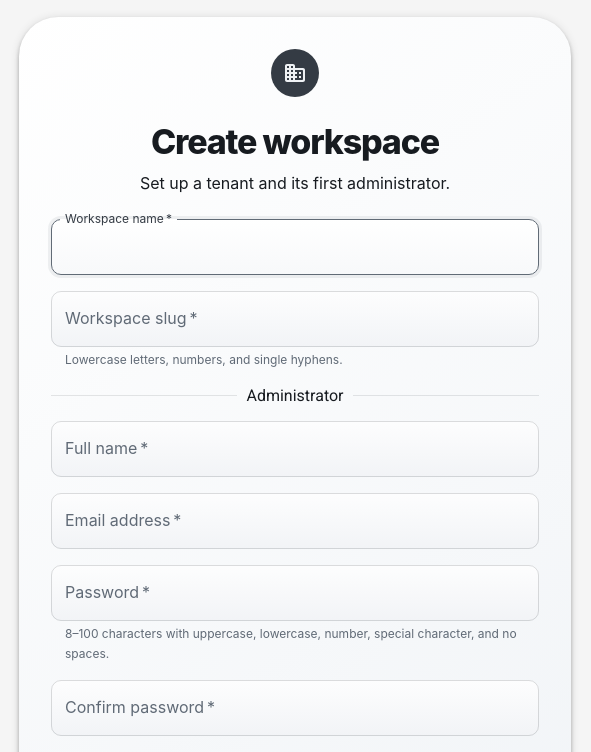
Test: TenantOnboardingPage › surfaces a duplicate workspace slug returned by the backend
In the field labelled "Workspace name *": (295, 247) [51,219,539,275], type "  Research Workspace  "
In the field labelled "Workspace slug *": (295, 319) [51,291,539,347], type "  Research-Workspace  "
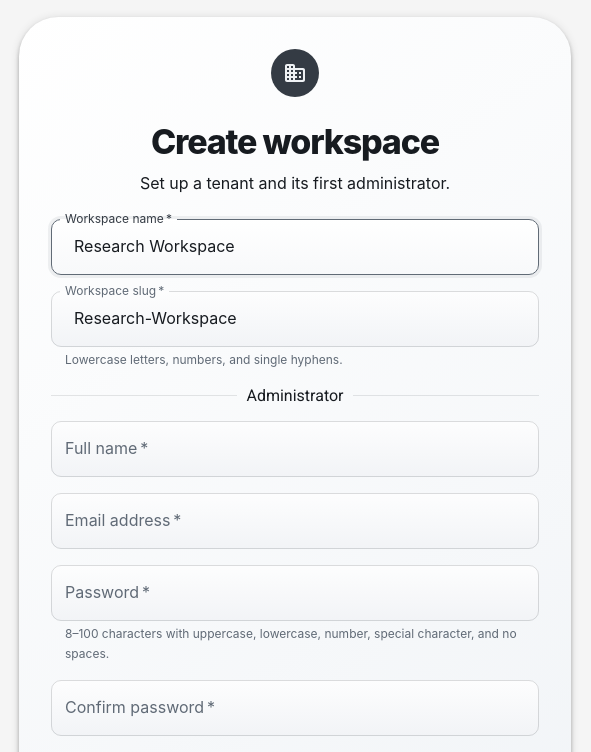
In the field labelled "Full name *": (295, 449) [51,421,539,477], type "  Grace Admin  "
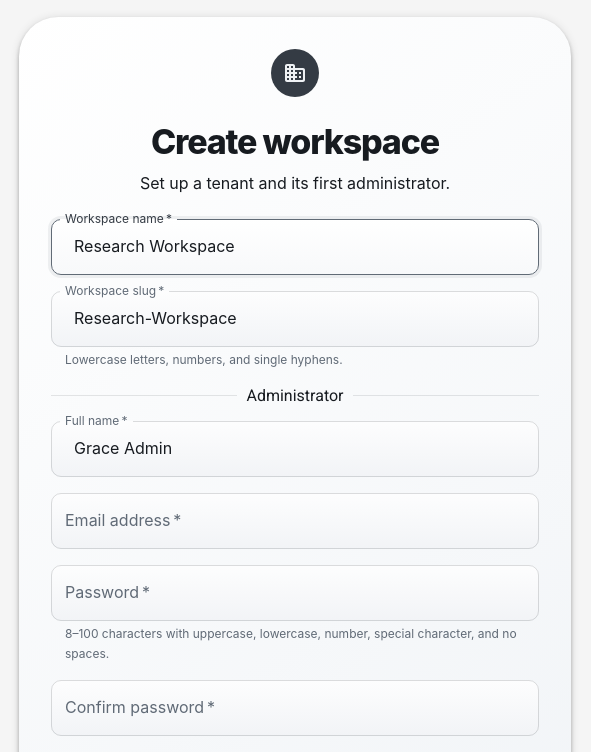
In the field labelled "Email address *": (295, 521) [51,493,539,549], type "  GRACE@EXAMPLE.COM  "
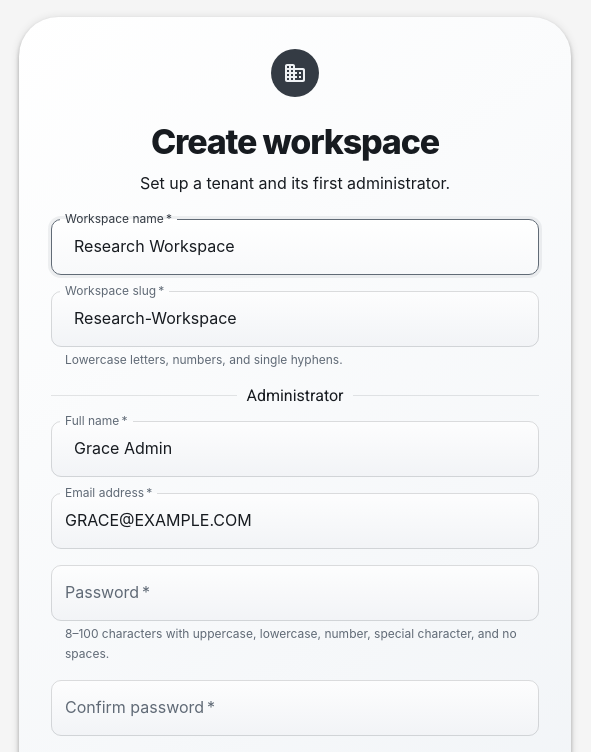
In the password field labelled "Password *": (295, 593) [51,565,539,621], type "Strong@123"
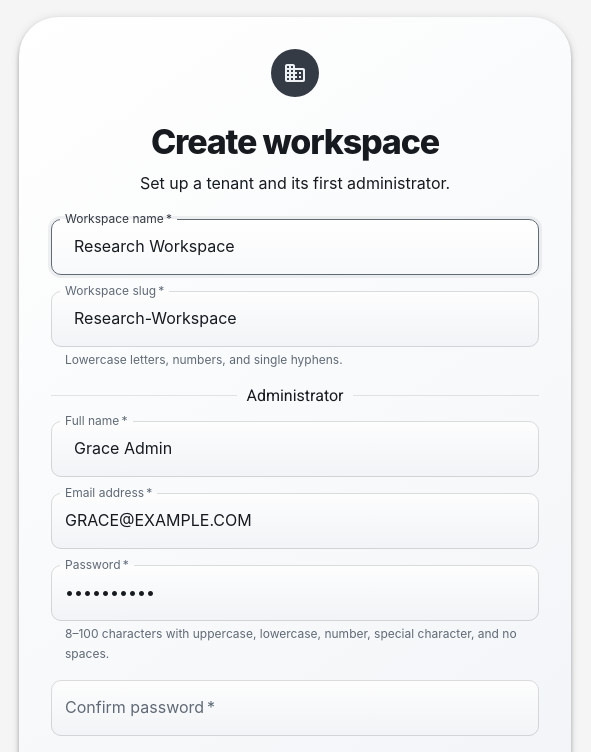
In the password field labelled "Confirm password *": (295, 708) [51,680,539,736], type "Strong@123"
(page scrolled)
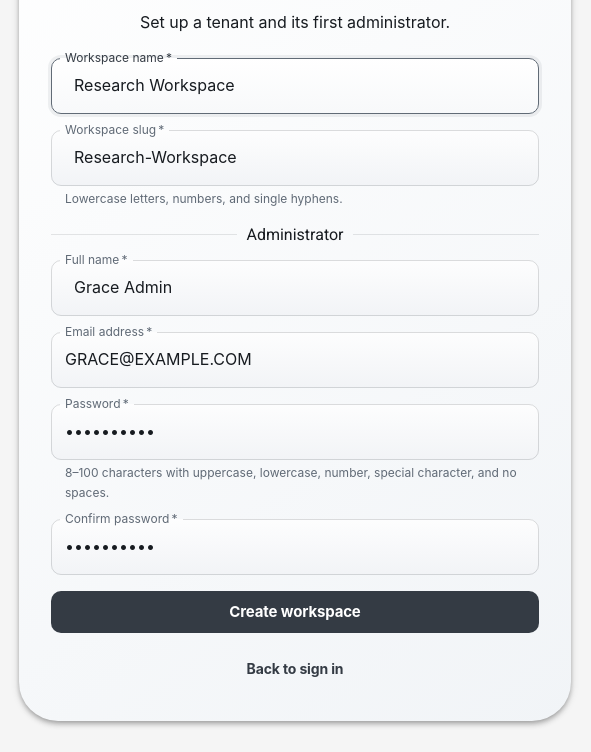
Click the button "Create workspace": (295, 612) [51,591,539,633]
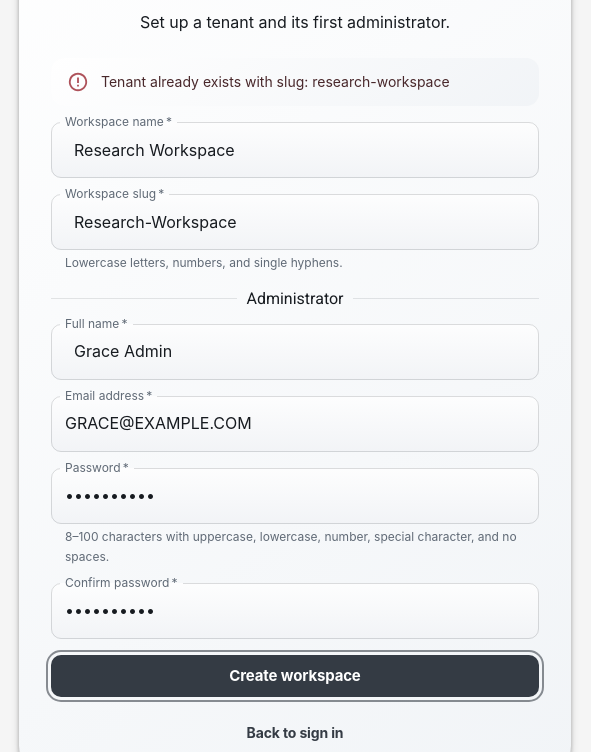
expect the text "Tenant already exists with slug: research-workspace" is shown: met, box [101,73,450,90]
